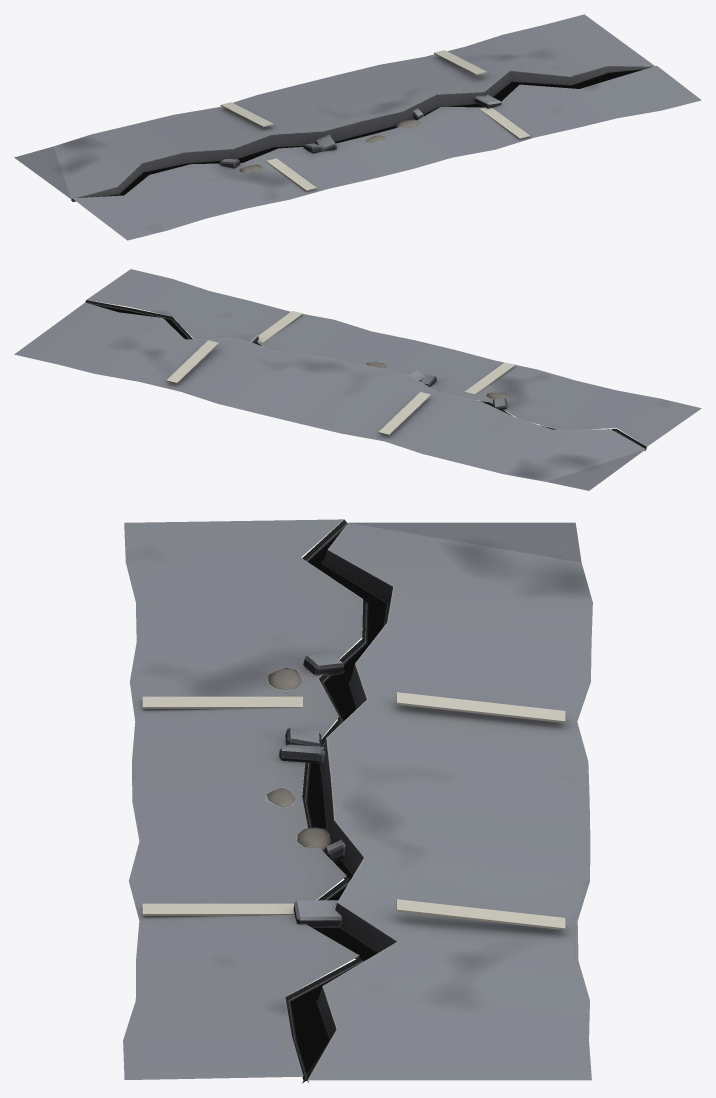
File: asphalt_crack.glb
The picture shows the model from 3 angles, top to bottom: view 1: azimuth 30°, elevation 25°; view 2: azimuth 150°, elevation 25°; view 3: azimuth 270°, elevation 25°; orthographic projection. The views are drawn at different scales.
Parts seen in each view (by area): view 1: asphalt_crack; view 2: asphalt_crack; view 3: asphalt_crack.
Boxes of the visible parts, x1,y1,x2,y2 form: asphalt_crack: (14,14,701,240); asphalt_crack: (14,269,701,490); asphalt_crack: (123,519,592,1082).
Bounding box in the file's own units: 7 × 0.2105 × 2.49.
1 material, 1 textured.
